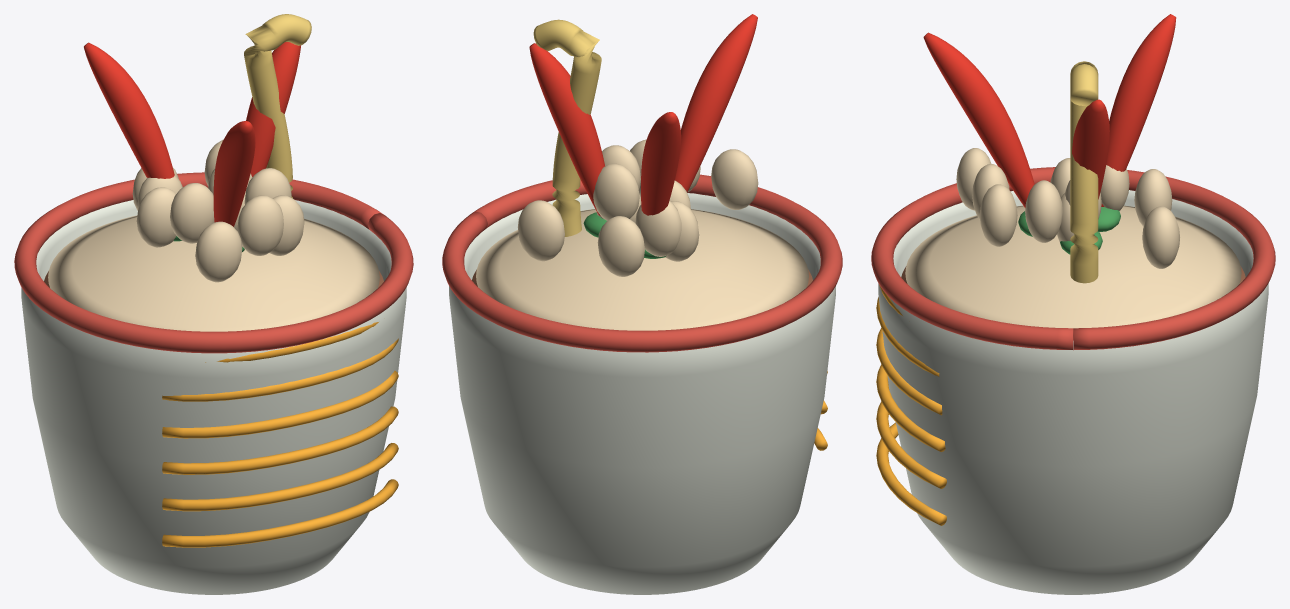
File: K06_Volcano_Chili_Boba_Tea.glb
3 views of the same model, side by side, from view 1: azimuth 30°, elevation 25°; view 2: azimuth 150°, elevation 25°; view 3: azimuth 270°, elevation 25° (orthographic).
Visible parts, largest first — view 1: K06 inverted cone physical cup shell, K06 foamed dome creamy interior, K06 soft silicone triple cup lip, K06_CUP_ACTOR | Hot pepper graphic orange, K06_CHILI_ACTOR | Velvet foam caramel, K06_CHILI_ACTOR | Hot pepper lacquer red, K06 physical bent stainless straw; view 2: K06 inverted cone physical cup shell, K06 foamed dome creamy interior, K06 soft silicone triple cup lip, K06_CHILI_ACTOR | Velvet foam caramel, K06_CHILI_ACTOR | Hot pepper lacquer red, K06 physical bent stainless straw; view 3: K06 inverted cone physical cup shell, K06 foamed dome creamy interior, K06 soft silicone triple cup lip, K06_CHILI_ACTOR | Hot pepper lacquer red, K06_CHILI_ACTOR | Velvet foam caramel, K06_CUP_ACTOR | Hot pepper graphic orange, K06 physical bent stainless straw, K06_CHILI_ACTOR | Pepper freshly cut green stem.
Boxes of the visible parts, left/top/right/bottom form: K06 inverted cone physical cup shell: left=21, top=200, right=406, bottom=594; K06 foamed dome creamy interior: left=48, top=215, right=379, bottom=331; K06 soft silicone triple cup lip: left=14, top=172, right=413, bottom=353; K06_CUP_ACTOR | Hot pepper graphic orange: left=162, top=322, right=398, bottom=547; K06_CHILI_ACTOR | Velvet foam caramel: left=132, top=139, right=304, bottom=282; K06_CHILI_ACTOR | Hot pepper lacquer red: left=84, top=42, right=300, bottom=226; K06 physical bent stainless straw: left=244, top=14, right=311, bottom=198; K06 inverted cone physical cup shell: left=449, top=193, right=835, bottom=594; K06 foamed dome creamy interior: left=476, top=209, right=808, bottom=330; K06 soft silicone triple cup lip: left=442, top=174, right=842, bottom=352; K06_CHILI_ACTOR | Velvet foam caramel: left=517, top=139, right=758, bottom=276; K06_CHILI_ACTOR | Hot pepper lacquer red: left=529, top=14, right=757, bottom=215; K06 physical bent stainless straw: left=533, top=19, right=601, bottom=236; K06 inverted cone physical cup shell: left=878, top=190, right=1268, bottom=594; K06 foamed dome creamy interior: left=905, top=205, right=1241, bottom=328; K06 soft silicone triple cup lip: left=871, top=167, right=1275, bottom=350; K06_CHILI_ACTOR | Hot pepper lacquer red: left=923, top=14, right=1176, bottom=207; K06_CHILI_ACTOR | Velvet foam caramel: left=956, top=148, right=1179, bottom=268; K06_CUP_ACTOR | Hot pepper graphic orange: left=876, top=285, right=946, bottom=525; K06 physical bent stainless straw: left=1070, top=61, right=1098, bottom=283; K06_CHILI_ACTOR | Pepper freshly cut green stem: left=1018, top=207, right=1120, bottom=254.
Bounding box in the file's own units: 1.49 × 2.12 × 1.49.
